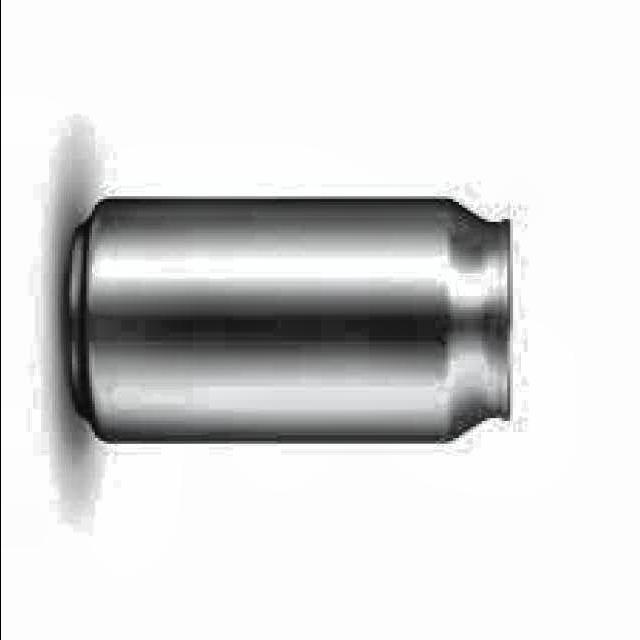litter: (55, 181, 523, 454)
